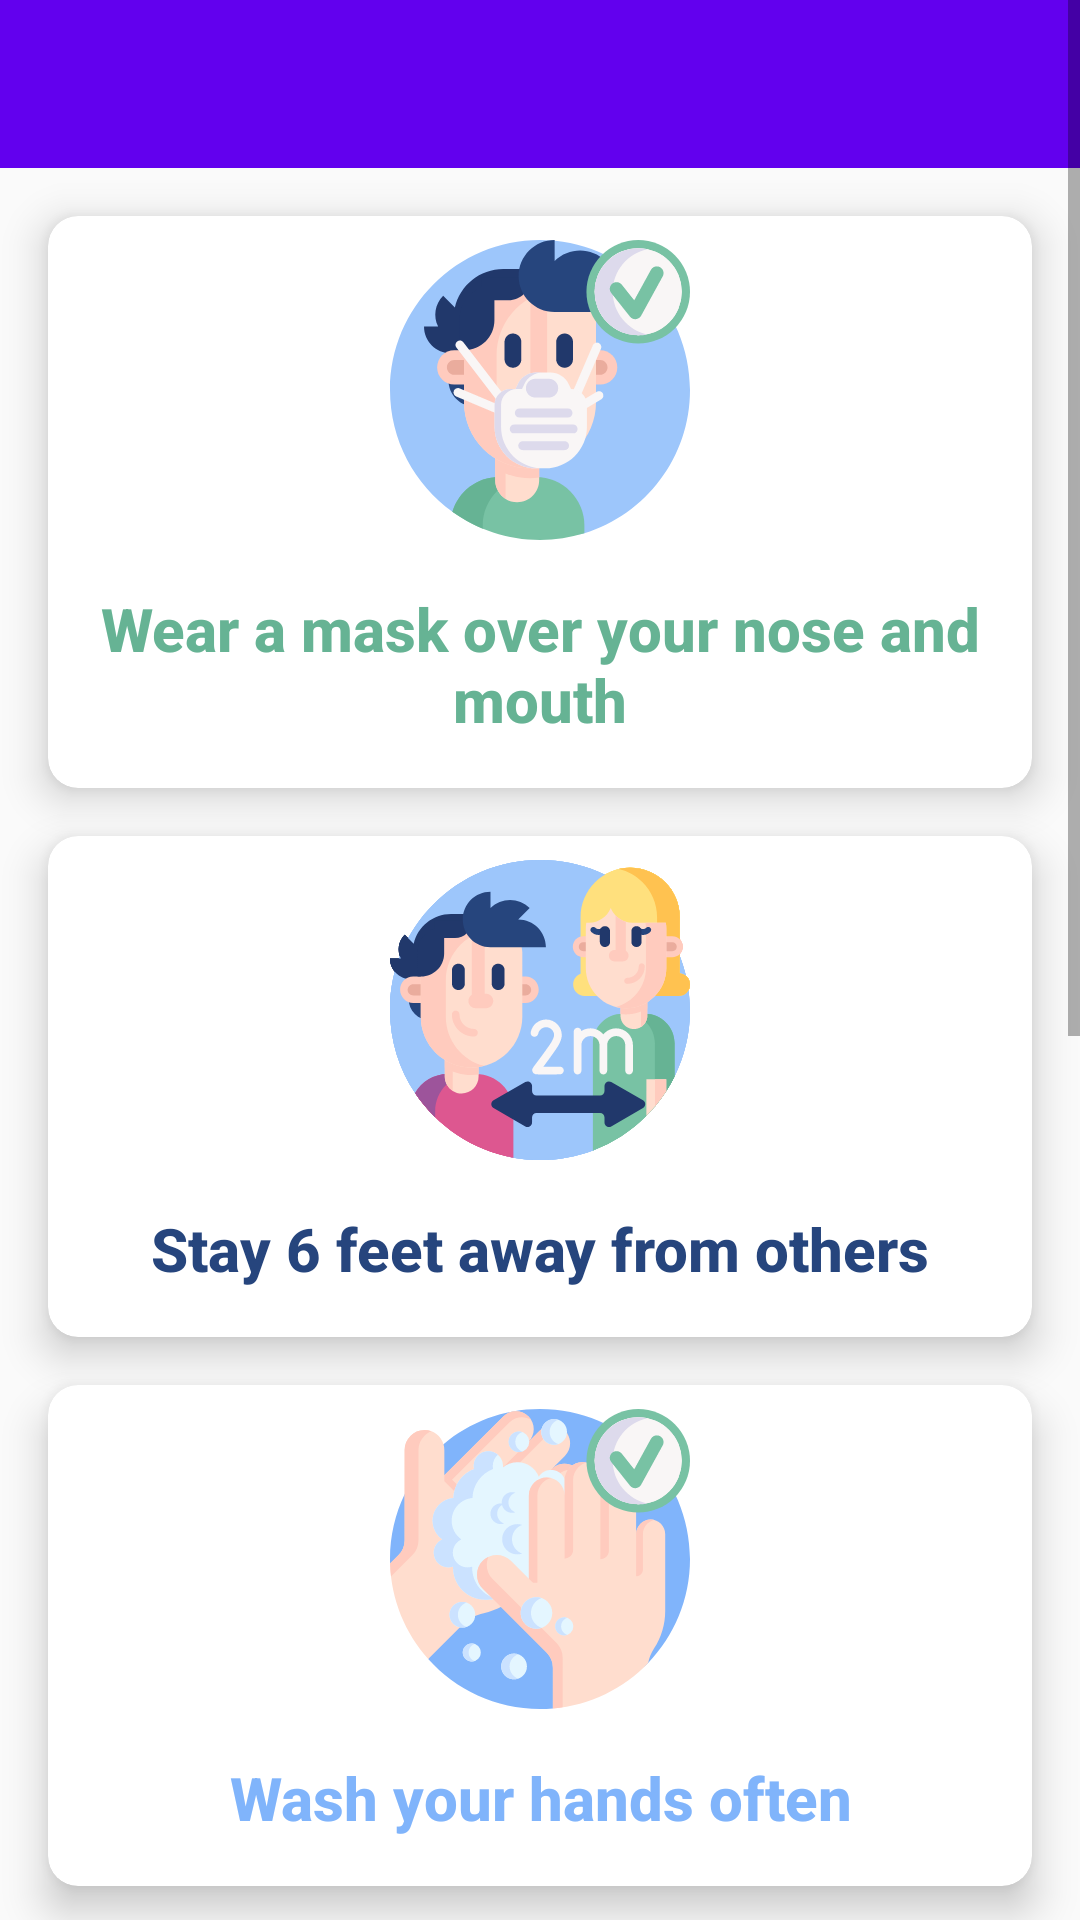

Icon bounding boxes for this 1080px x 1920px phone screenshot, format (x1=x1, y1=y1, x2=x2, y2=y2):
social distancing: (x1=390, y1=860, x2=690, y2=1160)
